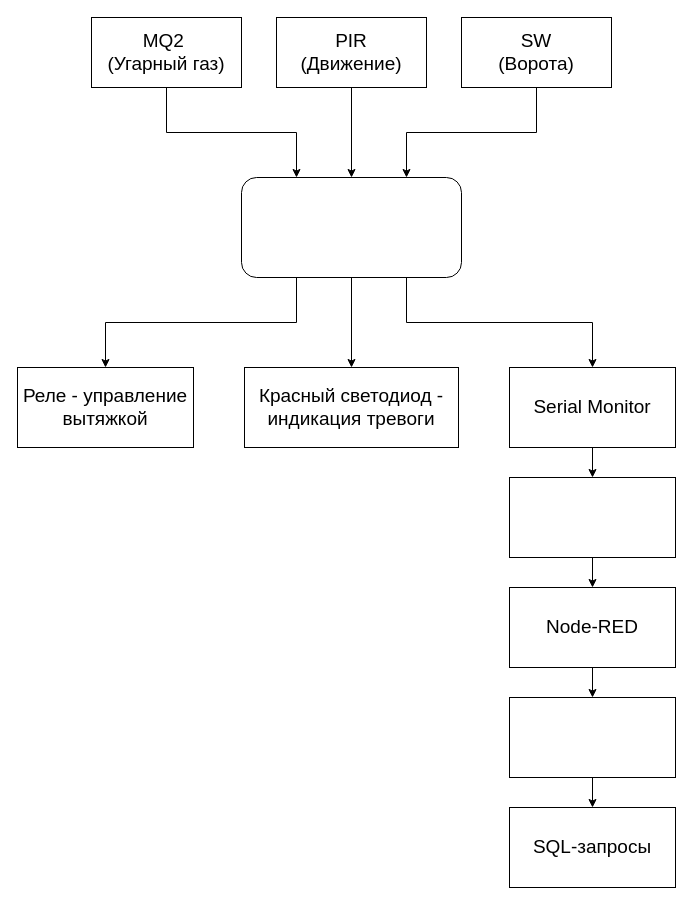
Some shapes in this 693 by 905 pixel diagram are drawn without their labels. The centre of each missing label's shape, as x and y in pixels:
Arduino Uno - опрос датчиков каждые 5 секунд: the point at 351,227
data/log.txt: the point at 592,517
SQLite: the point at 592,737
